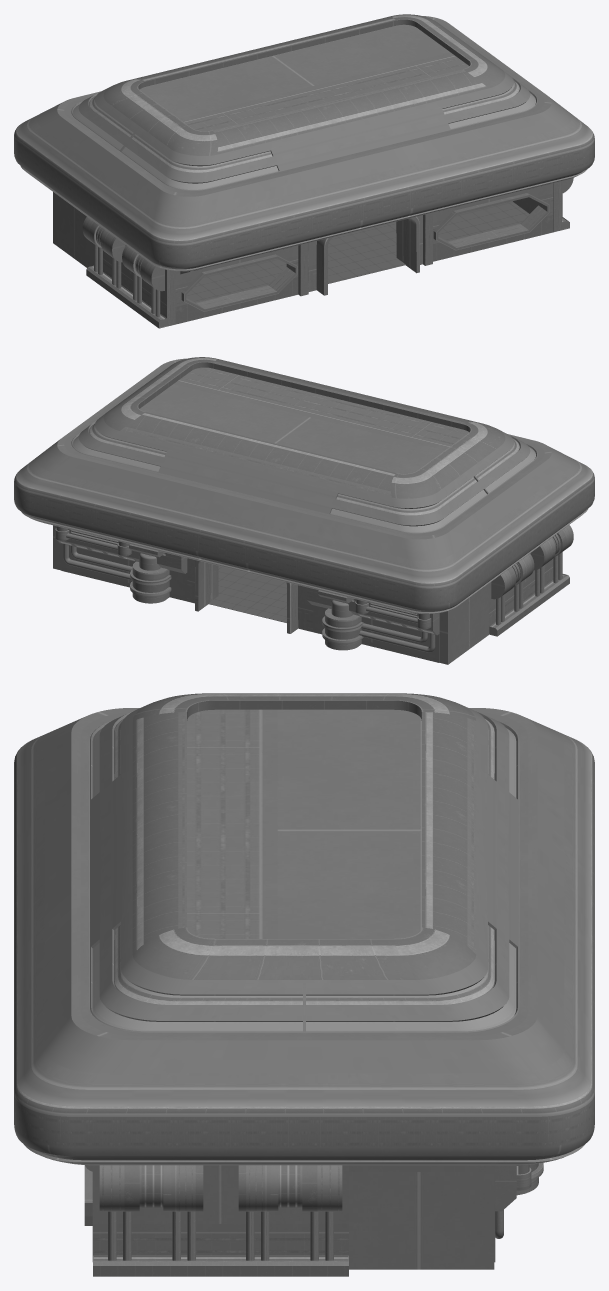
File: SM_house_01_open.glb
3 renders of one model, top to bottom at view 1: azimuth 30°, elevation 25°; view 2: azimuth 150°, elevation 25°; view 3: azimuth 270°, elevation 25°, orthographic. The views are drawn at different scales.
Visible parts, largest first — view 1: SM_house_01_open; view 2: SM_house_01_open; view 3: SM_house_01_open.
Part boxes in pixels (x1=…): SM_house_01_open: x1=14, y1=14, x2=594, y2=328; SM_house_01_open: x1=14, y1=357, x2=594, y2=664; SM_house_01_open: x1=14, y1=693, x2=594, y2=1276.
Bounding box in the file's own units: 27.95 × 9.66 × 18.15.
3 materials, 2 textured.
